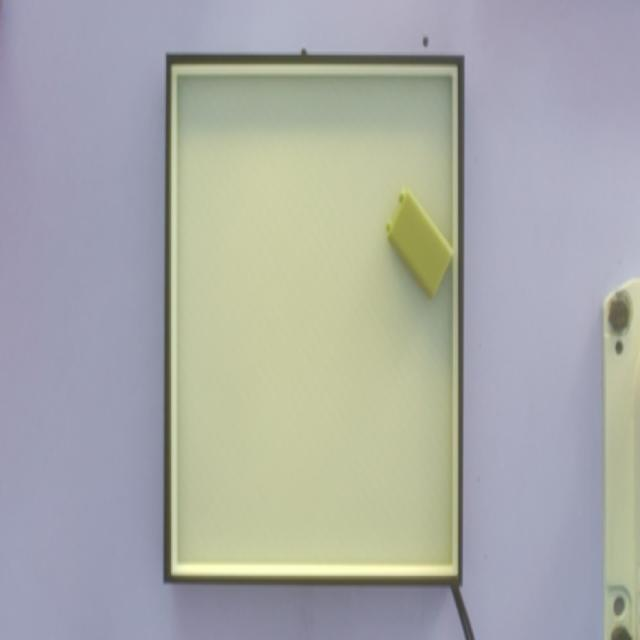bateria: (386, 188, 454, 301)
mesa: (164, 54, 464, 587)
